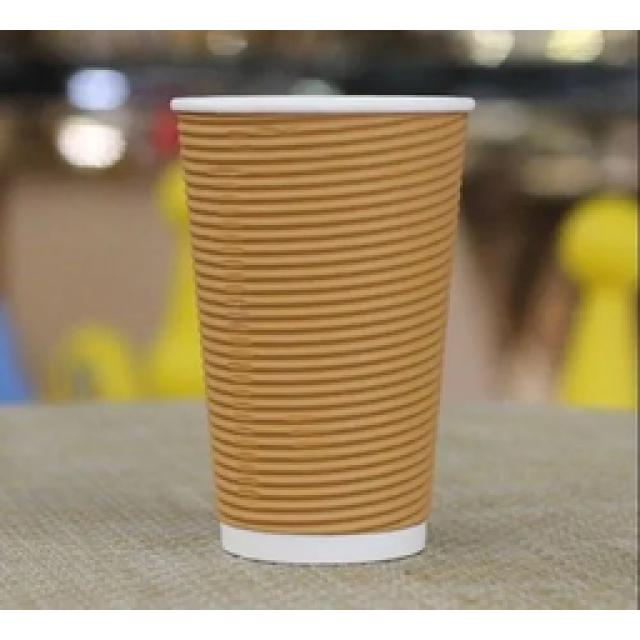paper_cups: (170, 93, 480, 569)
